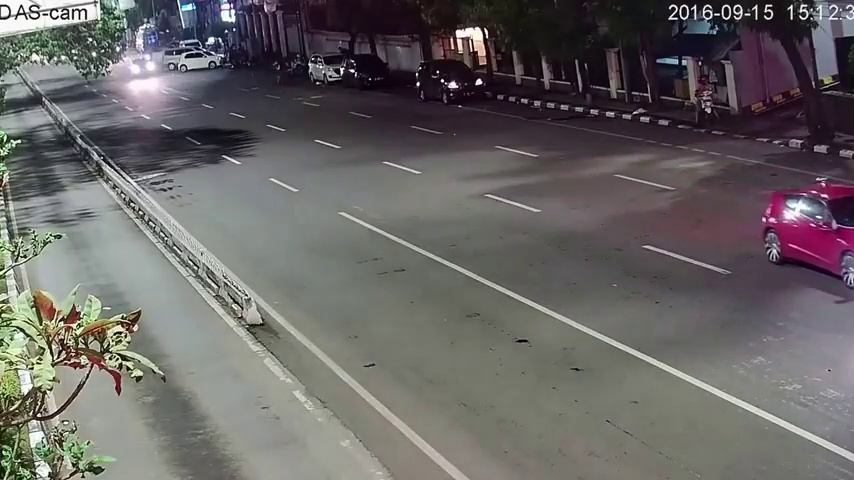car: (761, 181, 854, 287), (417, 60, 482, 109), (342, 53, 393, 89), (308, 51, 346, 87), (179, 50, 225, 71), (130, 58, 155, 79)
motorbike: (696, 78, 717, 124)
